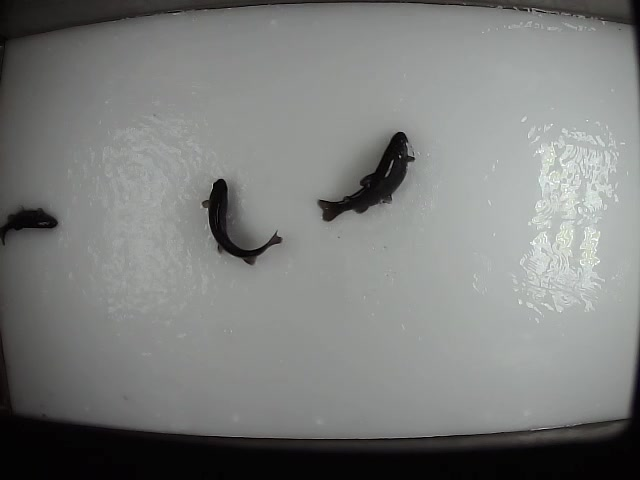fish: (315, 128, 419, 226), (199, 176, 284, 267)
